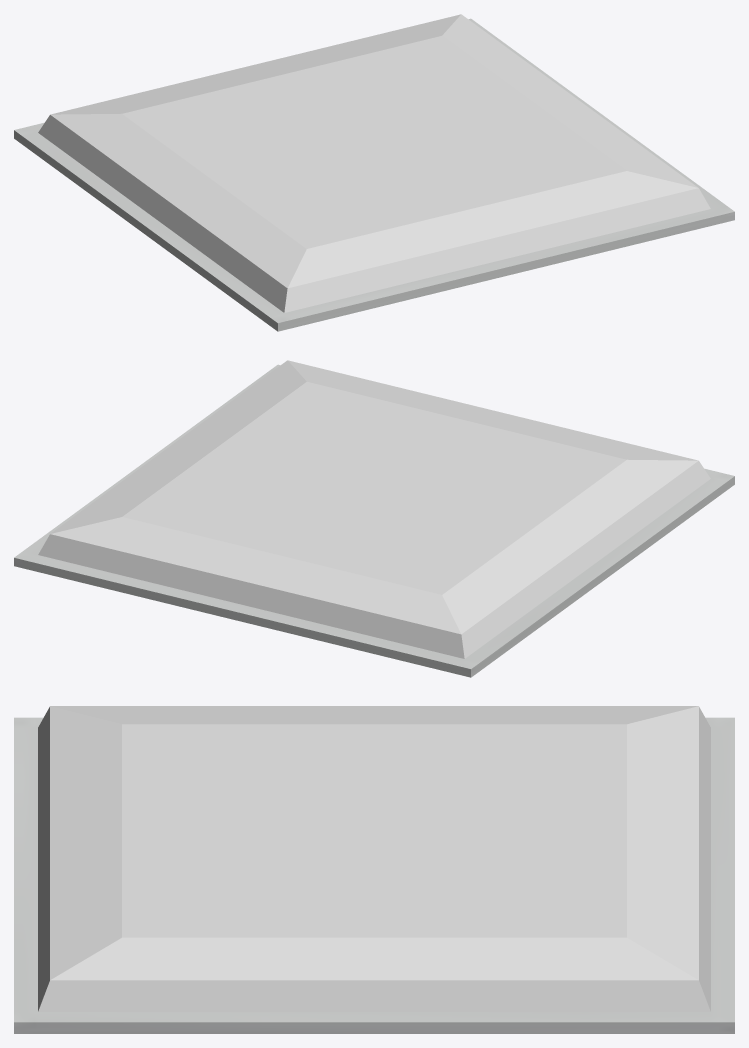
File: cloth.fbx
The picture shows the model from 3 angles, top to bottom: view 1: azimuth 30°, elevation 25°; view 2: azimuth 150°, elevation 25°; view 3: azimuth 270°, elevation 25°; orthographic projection. The views are drawn at different scales.
Visible parts, largest first — view 1: Package; view 2: Package; view 3: Package.
Part boxes in pixels (left/top/right/bottom): Package: left=14, top=14, right=734, bottom=331; Package: left=14, top=360, right=734, bottom=677; Package: left=14, top=706, right=734, bottom=1033.
Size of the model in its own units: 11.43 by 0.8834 by 11.43.
